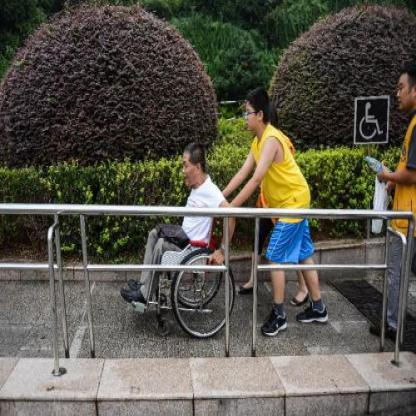wheelchair: (132, 140, 242, 348)
